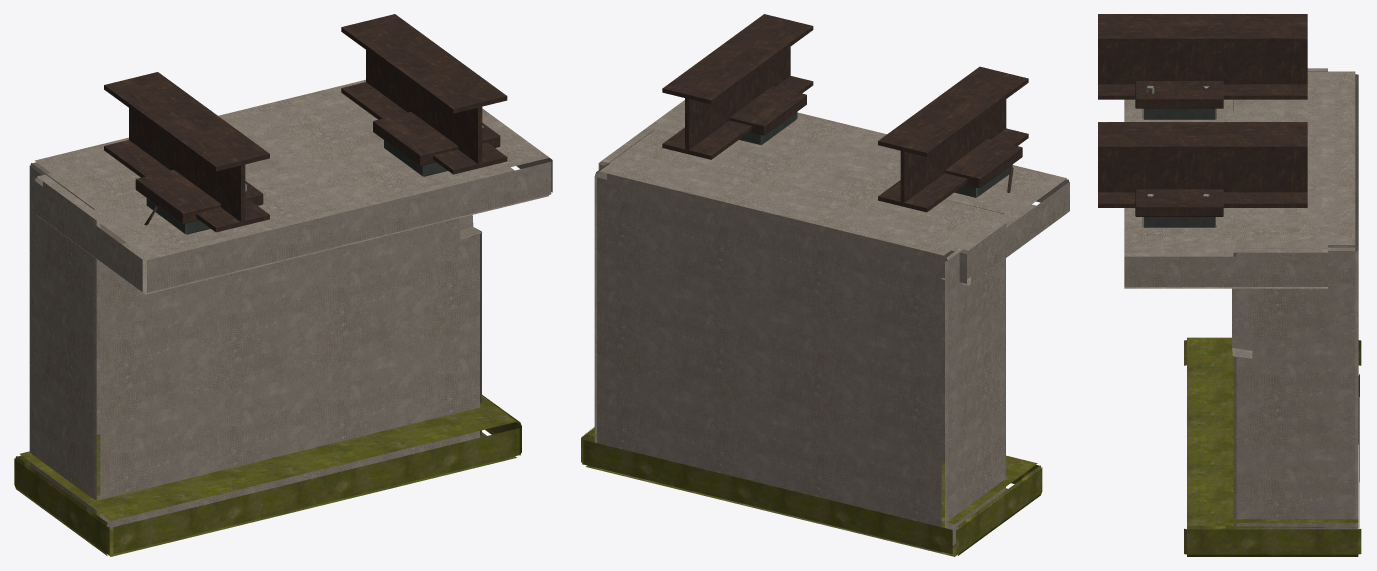
Rendered from lod2_NOT_APPROVED.glb.
3 views of the same model, side by side, from view 1: azimuth 30°, elevation 25°; view 2: azimuth 150°, elevation 25°; view 3: azimuth 270°, elevation 25° (orthographic). The views are drawn at different scales.
Visible parts, largest first — view 1: f3_weathered_concrete_surface, f3_oxidized_iron_surface, f3_damp_concrete_surface, f3_aged_rubber_surface; view 2: f3_weathered_concrete_surface, f3_oxidized_iron_surface, f3_damp_concrete_surface, f3_aged_rubber_surface; view 3: f3_weathered_concrete_surface, f3_oxidized_iron_surface, f3_damp_concrete_surface, f3_aged_rubber_surface.
Part boxes in pixels (x1,y1,x2,y2): f3_weathered_concrete_surface: (29, 79, 552, 529); f3_oxidized_iron_surface: (104, 14, 507, 232); f3_damp_concrete_surface: (14, 395, 521, 556); f3_aged_rubber_surface: (146, 140, 447, 234); f3_weathered_concrete_surface: (594, 100, 1069, 552); f3_oxidized_iron_surface: (662, 14, 1028, 212); f3_damp_concrete_surface: (581, 427, 1042, 556); f3_aged_rubber_surface: (739, 112, 1012, 197); f3_weathered_concrete_surface: (1124, 68, 1359, 529); f3_oxidized_iron_surface: (1098, 14, 1307, 216); f3_damp_concrete_surface: (1184, 337, 1361, 556); f3_aged_rubber_surface: (1142, 108, 1216, 227).
Bounding box in the file's own units: 3.85 × 3.64 × 2.27.
Materials: 5 (5 with a texture image).
